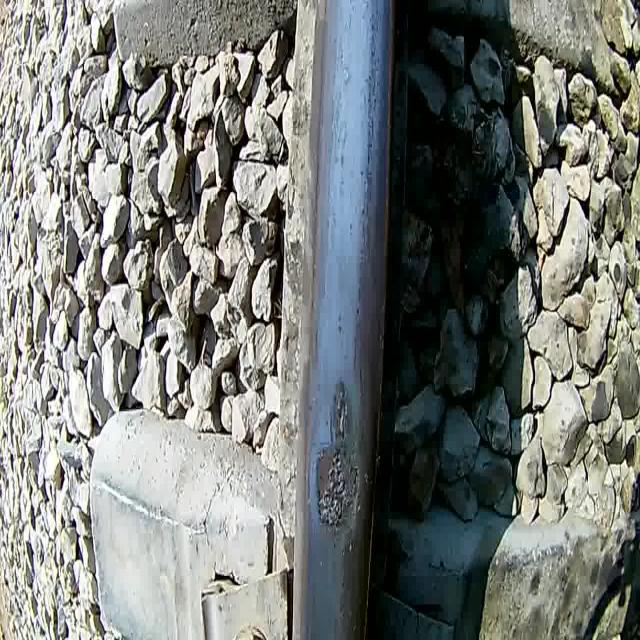Cracks: (325, 385, 352, 445)
Spallings: (310, 446, 362, 532)
Squats: (311, 374, 364, 540)
